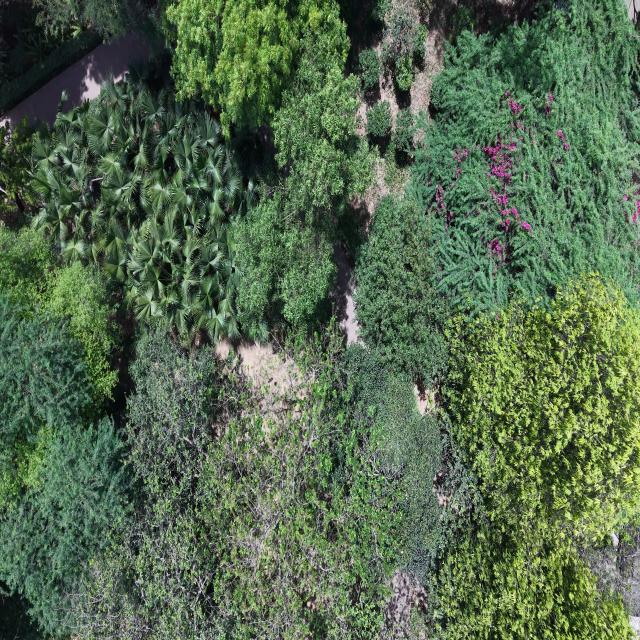DRY_AREA: (0, 32, 148, 125)
VEGETATION_TREE: (0, 0, 639, 639), (69, 331, 628, 637), (405, 5, 638, 637), (73, 331, 443, 637), (32, 26, 372, 341), (76, 331, 402, 638), (437, 275, 639, 638), (411, 3, 639, 314), (32, 75, 255, 341), (0, 227, 130, 635), (448, 276, 639, 537), (235, 31, 372, 337), (343, 344, 476, 597), (0, 416, 131, 635), (0, 264, 120, 487), (435, 517, 633, 639), (165, 0, 344, 132), (0, 227, 120, 399), (271, 26, 372, 227), (0, 297, 92, 506), (0, 0, 165, 114), (355, 196, 448, 385), (236, 190, 336, 339), (0, 0, 102, 113), (45, 262, 118, 399), (0, 29, 102, 112), (0, 0, 70, 88), (581, 516, 638, 616), (0, 226, 55, 315), (34, 0, 159, 37), (381, 0, 426, 91), (0, 119, 34, 218), (0, 586, 40, 639), (394, 107, 416, 154), (451, 5, 477, 44), (366, 101, 392, 139), (359, 48, 381, 91), (370, 0, 387, 23)
